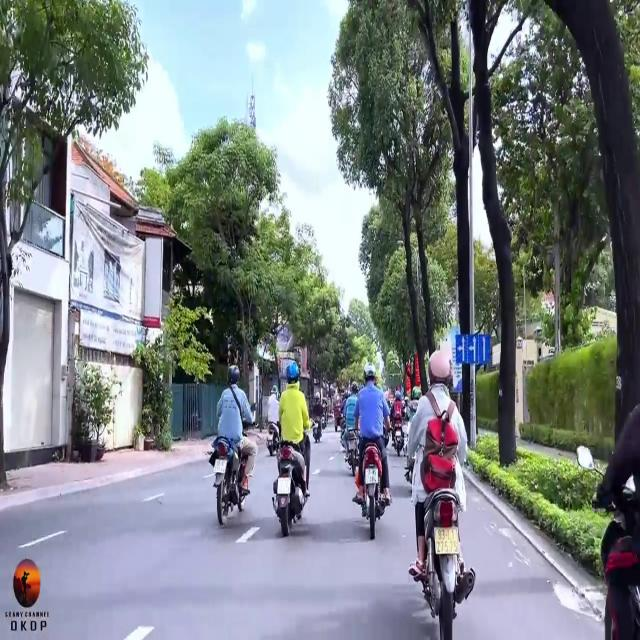bien_trang: (431, 523, 460, 554)
